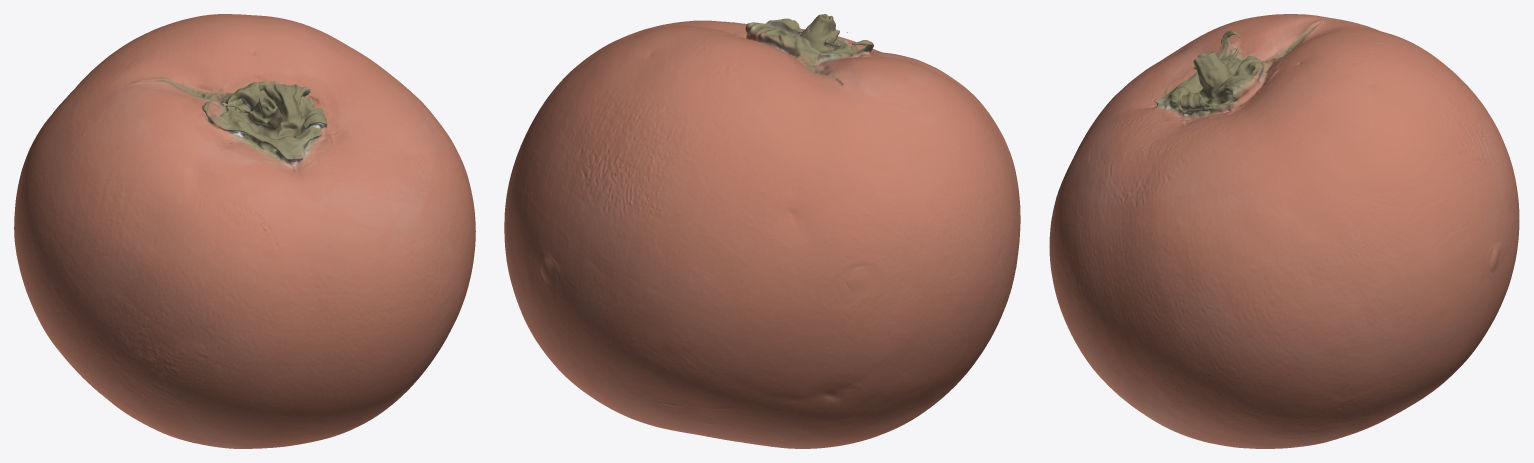
The model's file is tomate.glb.
3 views of the same model, side by side, from view 1: azimuth 30°, elevation 25°; view 2: azimuth 150°, elevation 25°; view 3: azimuth 270°, elevation 25° (orthographic). The views are drawn at different scales.
Parts seen in each view (by area): view 1: Geode; view 2: Geode; view 3: Geode.
Boxes of the visible parts, x1,y1,x2,y2 form: Geode: (14, 14, 475, 448); Geode: (504, 14, 1020, 448); Geode: (1049, 14, 1519, 448).
Bounding box in the file's own units: 59.23 × 51.46 × 58.21.
